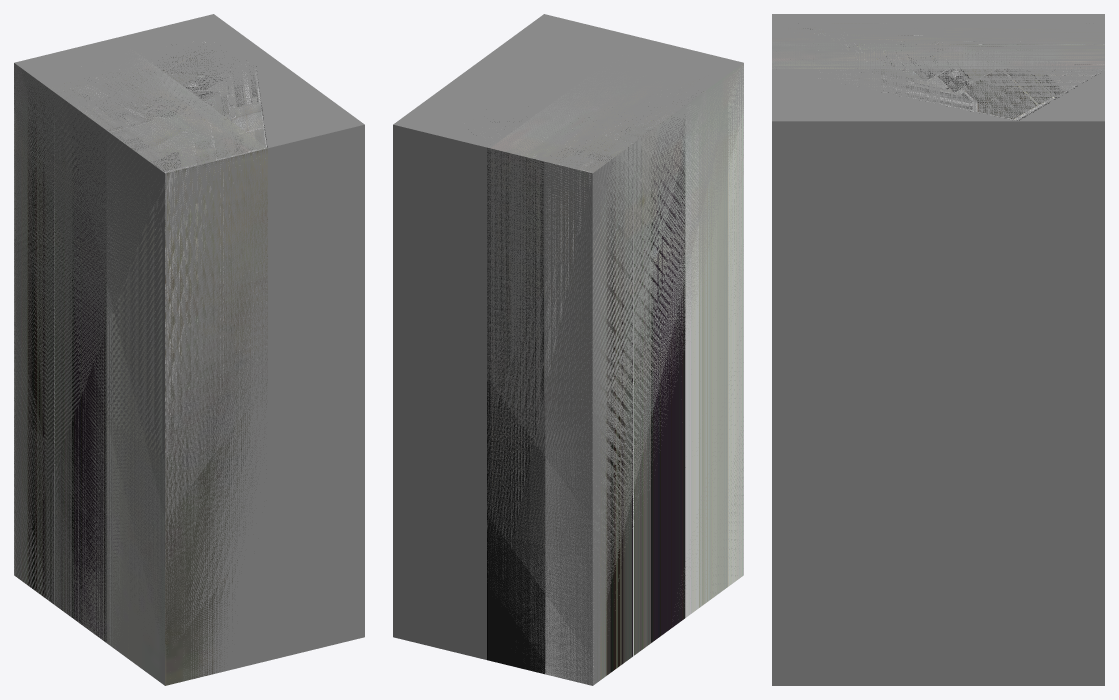
Rendered from pantry_02.FBX.
The picture shows the model from 3 angles, left to right: view 1: azimuth 30°, elevation 25°; view 2: azimuth 150°, elevation 25°; view 3: azimuth 270°, elevation 25°; orthographic projection. The views are drawn at different scales.
Visible parts, largest first — view 1: bounds, pantry_two100, col-1; view 2: bounds, col-1, pantry_two100; view 3: bounds, pantry_two100, col-1.
Boxes of the visible parts, <box> form: bounds: <box>14,14,364,679</box>; pantry_two100: <box>14,50,267,685</box>; col-1: <box>14,42,267,656</box>; bounds: <box>393,14,743,685</box>; col-1: <box>487,66,743,685</box>; pantry_two100: <box>490,63,743,601</box>; bounds: <box>772,14,1104,685</box>; pantry_two100: <box>772,23,1104,69</box>; col-1: <box>810,29,1104,120</box>.
Bounding box in the file's own units: 99.28 × 243 × 130.
